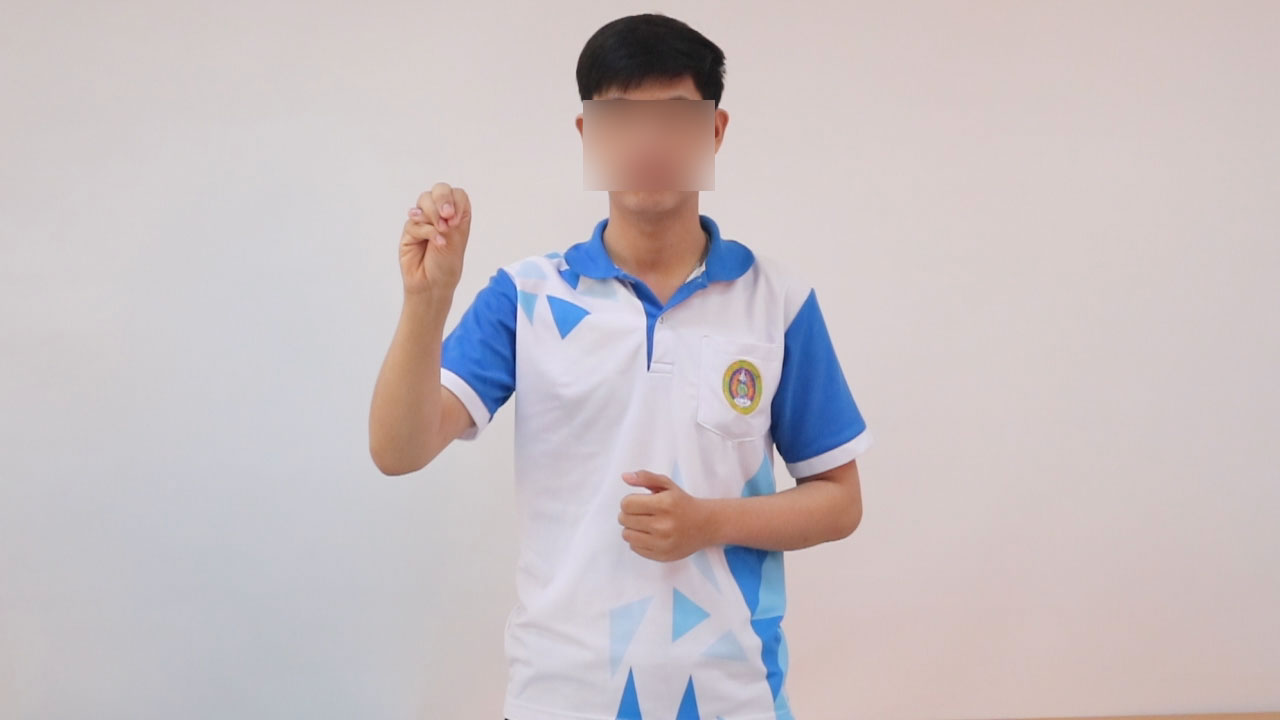mor: (383, 159, 483, 314)
